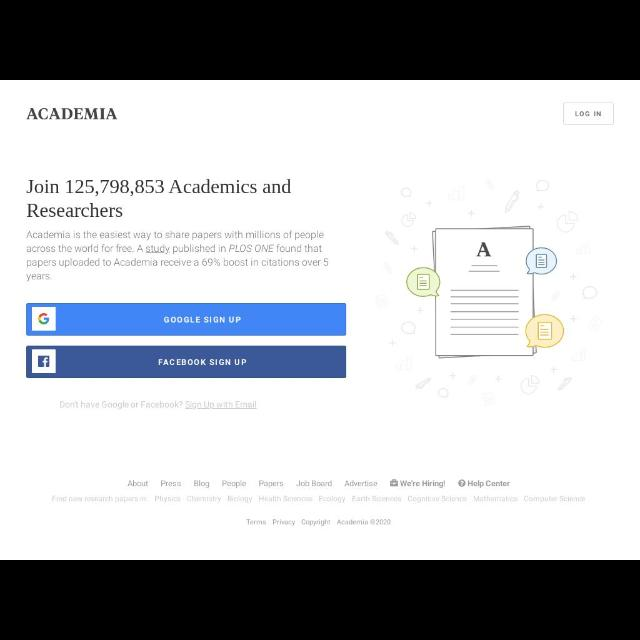icon: (390, 479, 398, 486), (459, 480, 465, 486), (370, 520, 376, 524)
image: (378, 180, 600, 398), (38, 356, 50, 366), (38, 314, 48, 324)
text: (27, 231, 329, 281), (27, 179, 291, 217), (60, 401, 256, 409), (26, 108, 116, 120), (160, 358, 246, 366), (54, 496, 146, 502), (524, 496, 584, 504), (164, 317, 240, 323), (400, 480, 446, 488), (409, 496, 467, 502), (468, 480, 509, 488), (259, 496, 311, 502), (353, 496, 401, 502), (474, 496, 516, 502), (296, 481, 332, 487), (260, 480, 284, 488), (188, 496, 220, 502), (338, 519, 368, 525), (224, 480, 246, 488), (302, 520, 330, 526), (154, 496, 180, 502), (576, 110, 600, 116), (228, 496, 252, 502), (320, 496, 344, 502), (194, 480, 210, 488), (345, 482, 377, 486), (128, 481, 148, 487), (161, 481, 181, 487), (274, 520, 294, 526), (248, 519, 266, 525), (378, 520, 390, 524)
textbutton: (27, 346, 347, 378), (27, 303, 346, 335), (564, 103, 614, 125)
